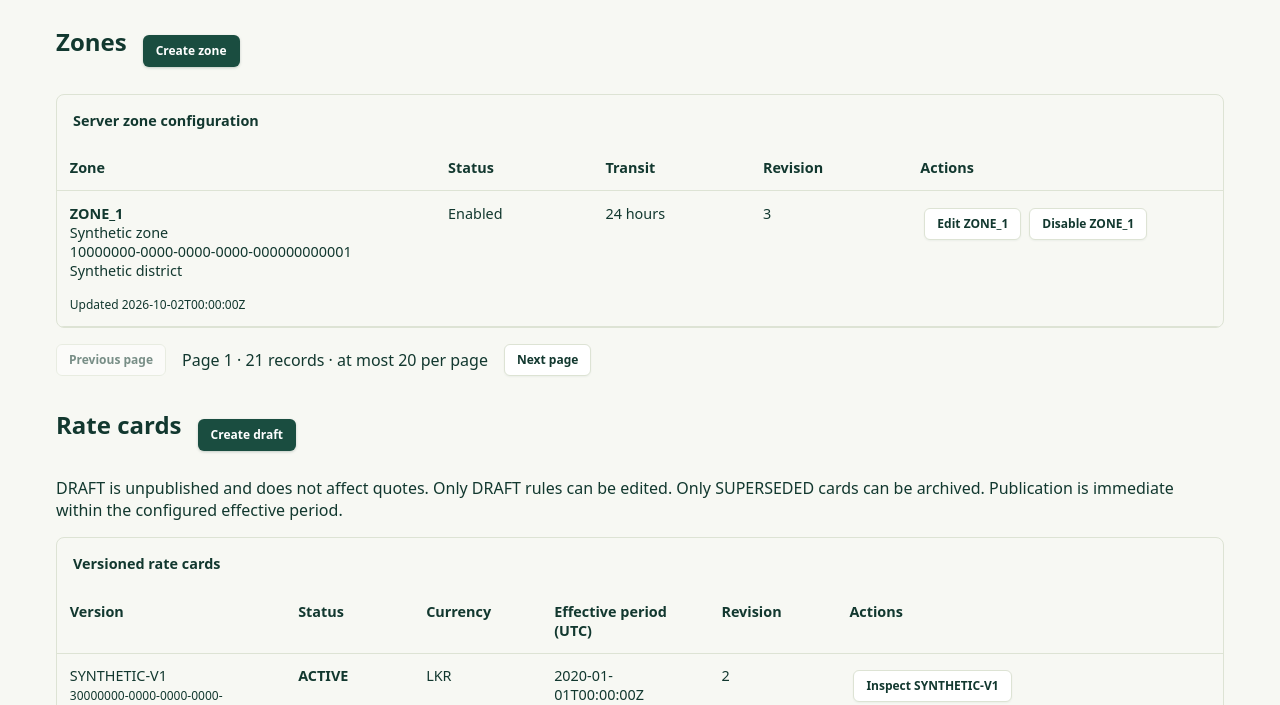
it: Zone management › paginates with server bounds
(page scrolled)
Expected: the button "Edit ZONE_1" is shown, [924,208,1021,240]
Click the button "Next page": coordinates (548, 360) [504,344,591,376]
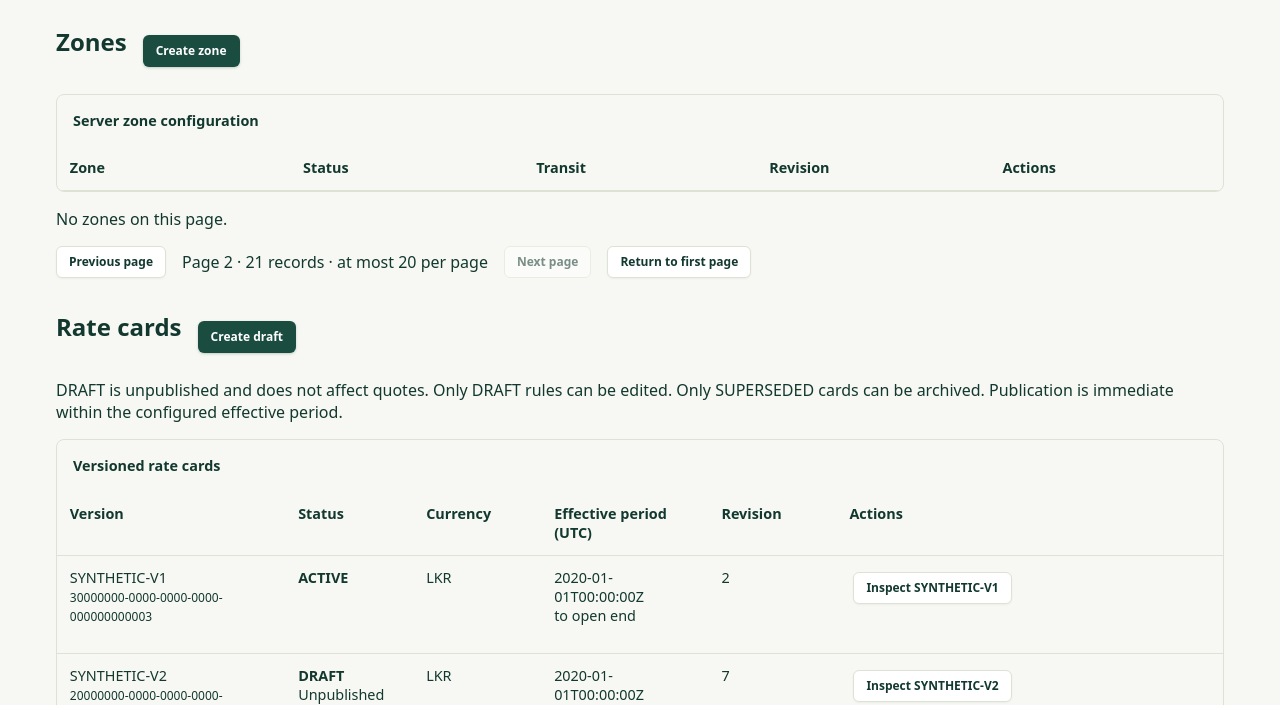
Now the button "Return to first page" is shown, box [607,246,751,278]
